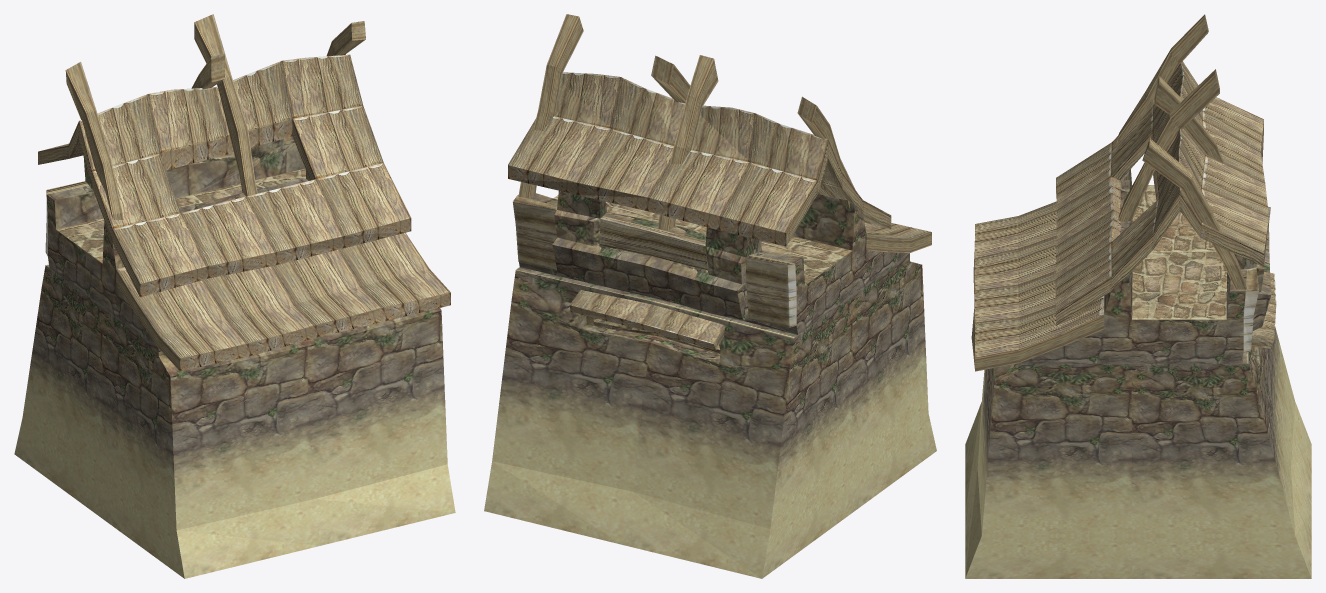
File: C3SMWA20LGE_H.obj
The picture shows the model from 3 angles, left to right: view 1: azimuth 30°, elevation 25°; view 2: azimuth 150°, elevation 25°; view 3: azimuth 270°, elevation 25°; orthographic projection. The views are drawn at different scales.
Parts seen in each view (by area): view 1: Node 0; view 2: Node 0; view 3: Node 0.
Part boxes in pixels (left/top/right/bottom): Node 0: left=14, top=14, right=455, bottom=578; Node 0: left=484, top=14, right=936, bottom=578; Node 0: left=965, top=14, right=1311, bottom=578.
Bounding box in the file's own units: 10.04 × 15.44 × 10.88.
2 materials, 2 textured.
